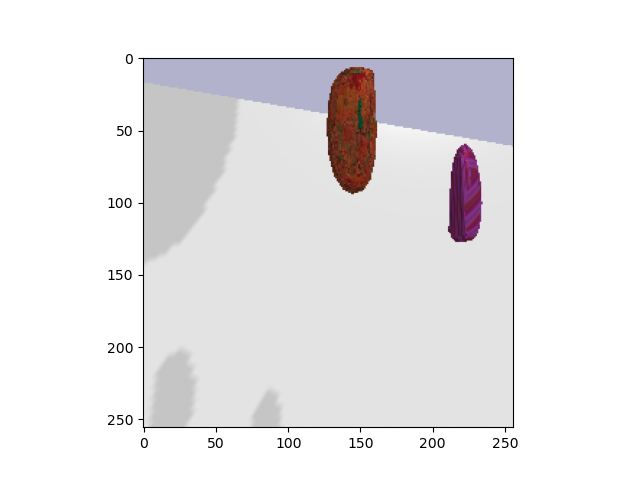v249b387_105: (445, 144, 488, 248)
v249b387_106: (322, 60, 384, 199)
